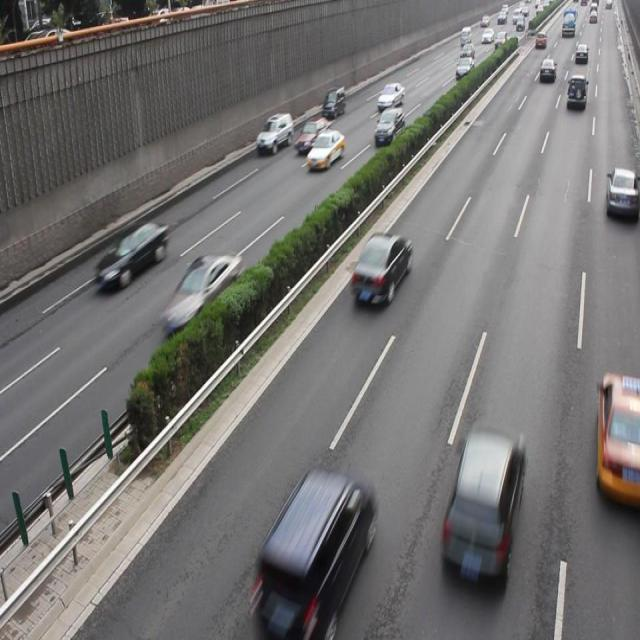car: (440, 426, 521, 574), (161, 252, 242, 336), (593, 370, 640, 508), (94, 220, 168, 290), (350, 232, 410, 306), (604, 165, 640, 221), (304, 128, 344, 171), (256, 111, 294, 153), (295, 117, 329, 153), (373, 107, 404, 145)
truck: (256, 469, 372, 640), (320, 86, 344, 120)
